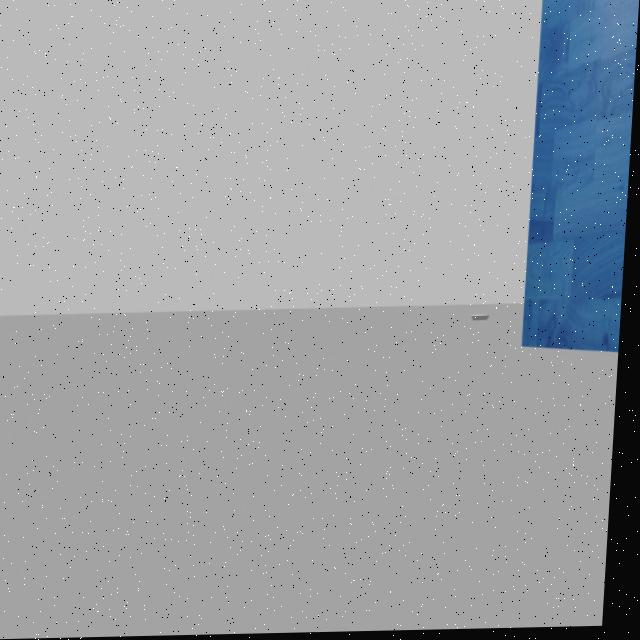bowl: (472, 309, 497, 333)
shelf: (519, 0, 640, 362)
